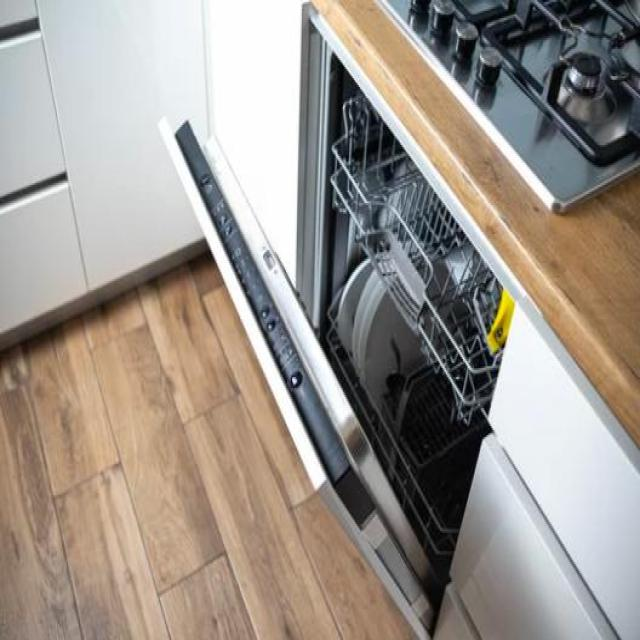dishwasher: (153, 14, 508, 636)
